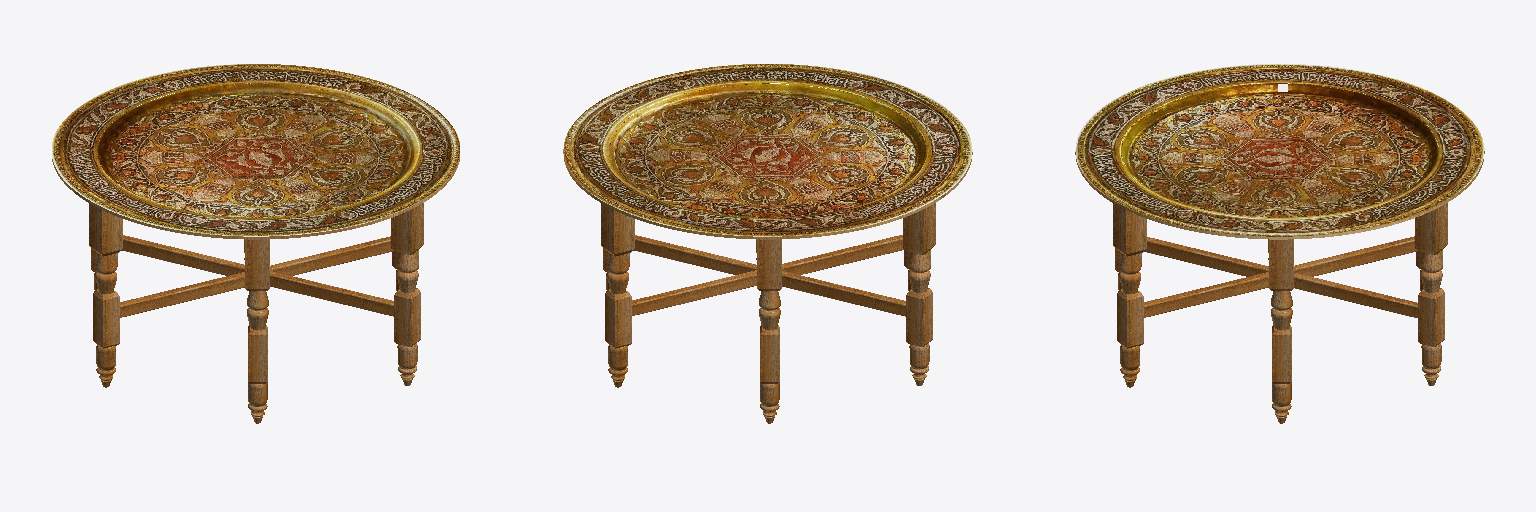
3 renders of one model, left to right at view 1: azimuth 30°, elevation 25°; view 2: azimuth 150°, elevation 25°; view 3: azimuth 270°, elevation 25°, orthographic.
Parts seen in each view (by area): view 1: Mesh1 Group2 Group1 Component_584_1 Model, Mesh24 Component_582_2 Group1 Component_584_1 Model, Mesh23 Component_582_1 Group1 Component_584_1 Model, Mesh33 Group12 Component_583_5 Group1 Component_584_1 Model, Mesh26 Group10 Component_583_4 Group1 Component_584_1 Model, Mesh32 Group11 Component_583_5 Group1 Component_584_1 Model, Mesh25 Group9 Component_583_4 Group1 Component_584_1 Model, Mesh39 Group13 Component_583_6 Group1 Component_584_1 Model, Mesh40 Group14 Component_583_6 Group1 Component_584_1 Model, Mesh28 Component_583_4 Group1 Component_584_1 Model, Mesh42 Component_583_6 Group1 Component_584_1 Model, Mesh35 Component_583_5 Group1 Component_584_1 Model (+3 smaller); view 2: Mesh1 Group2 Group1 Component_584_1 Model, Mesh53 Component_582_3 Group1 Component_584_1 Model, Mesh23 Component_582_1 Group1 Component_584_1 Model, Mesh17 Group8 Component_583_3 Group1 Component_584_1 Model, Mesh33 Group12 Component_583_5 Group1 Component_584_1 Model, Mesh16 Group7 Component_583_3 Group1 Component_584_1 Model, Mesh32 Group11 Component_583_5 Group1 Component_584_1 Model, Mesh2 Group3 Component_583_1 Group1 Component_584_1 Model, Mesh3 Group4 Component_583_1 Group1 Component_584_1 Model, Mesh5 Component_583_1 Group1 Component_584_1 Model, Mesh35 Component_583_5 Group1 Component_584_1 Model, Mesh19 Component_583_3 Group1 Component_584_1 Model (+3 smaller); view 3: Mesh1 Group2 Group1 Component_584_1 Model, Mesh24 Component_582_2 Group1 Component_584_1 Model, Mesh53 Component_582_3 Group1 Component_584_1 Model, Mesh26 Group10 Component_583_4 Group1 Component_584_1 Model, Mesh17 Group8 Component_583_3 Group1 Component_584_1 Model, Mesh25 Group9 Component_583_4 Group1 Component_584_1 Model, Mesh16 Group7 Component_583_3 Group1 Component_584_1 Model, Mesh9 Group5 Component_583_2 Group1 Component_584_1 Model, Mesh10 Group6 Component_583_2 Group1 Component_584_1 Model, Mesh12 Component_583_2 Group1 Component_584_1 Model, Mesh19 Component_583_3 Group1 Component_584_1 Model, Mesh28 Component_583_4 Group1 Component_584_1 Model (+3 smaller).
Boxes of the visible parts, x1,y1,x2,y2 form: Mesh1 Group2 Group1 Component_584_1 Model: [52, 64, 459, 239]; Mesh24 Component_582_2 Group1 Component_584_1 Model: [122, 235, 393, 316]; Mesh23 Component_582_1 Group1 Component_584_1 Model: [120, 236, 393, 317]; Mesh33 Group12 Component_583_5 Group1 Component_584_1 Model: [93, 289, 119, 348]; Mesh26 Group10 Component_583_4 Group1 Component_584_1 Model: [394, 288, 420, 346]; Mesh32 Group11 Component_583_5 Group1 Component_584_1 Model: [89, 203, 122, 256]; Mesh25 Group9 Component_583_4 Group1 Component_584_1 Model: [391, 203, 423, 254]; Mesh39 Group13 Component_583_6 Group1 Component_584_1 Model: [245, 239, 269, 290]; Mesh40 Group14 Component_583_6 Group1 Component_584_1 Model: [248, 325, 267, 383]; Mesh28 Component_583_4 Group1 Component_584_1 Model: [396, 252, 418, 292]; Mesh42 Component_583_6 Group1 Component_584_1 Model: [247, 291, 268, 329]; Mesh35 Component_583_5 Group1 Component_584_1 Model: [95, 254, 116, 293]; Mesh1 Group2 Group1 Component_584_1 Model: [563, 64, 972, 239]; Mesh53 Component_582_3 Group1 Component_584_1 Model: [632, 235, 904, 315]; Mesh23 Component_582_1 Group1 Component_584_1 Model: [634, 235, 905, 316]; Mesh17 Group8 Component_583_3 Group1 Component_584_1 Model: [605, 289, 631, 348]; Mesh33 Group12 Component_583_5 Group1 Component_584_1 Model: [906, 288, 932, 346]; Mesh16 Group7 Component_583_3 Group1 Component_584_1 Model: [601, 203, 634, 256]; Mesh32 Group11 Component_583_5 Group1 Component_584_1 Model: [903, 203, 935, 254]; Mesh2 Group3 Component_583_1 Group1 Component_584_1 Model: [757, 239, 781, 290]; Mesh3 Group4 Component_583_1 Group1 Component_584_1 Model: [760, 325, 779, 383]; Mesh5 Component_583_1 Group1 Component_584_1 Model: [759, 291, 780, 329]; Mesh35 Component_583_5 Group1 Component_584_1 Model: [908, 252, 930, 292]; Mesh19 Component_583_3 Group1 Component_584_1 Model: [607, 254, 628, 293]; Mesh1 Group2 Group1 Component_584_1 Model: [1075, 64, 1484, 239]; Mesh24 Component_582_2 Group1 Component_584_1 Model: [1144, 236, 1417, 317]; Mesh53 Component_582_3 Group1 Component_584_1 Model: [1144, 237, 1417, 317]; Mesh26 Group10 Component_583_4 Group1 Component_584_1 Model: [1117, 289, 1143, 348]; Mesh17 Group8 Component_583_3 Group1 Component_584_1 Model: [1418, 288, 1444, 346]; Mesh25 Group9 Component_583_4 Group1 Component_584_1 Model: [1113, 203, 1146, 256]; Mesh16 Group7 Component_583_3 Group1 Component_584_1 Model: [1415, 203, 1447, 254]; Mesh9 Group5 Component_583_2 Group1 Component_584_1 Model: [1269, 239, 1293, 290]; Mesh10 Group6 Component_583_2 Group1 Component_584_1 Model: [1272, 325, 1291, 383]; Mesh12 Component_583_2 Group1 Component_584_1 Model: [1271, 291, 1292, 329]; Mesh19 Component_583_3 Group1 Component_584_1 Model: [1420, 252, 1442, 292]; Mesh28 Component_583_4 Group1 Component_584_1 Model: [1119, 254, 1140, 293].
Bounding box in the file's own units: 35.43 × 20.21 × 35.43.
4 materials, 4 textured.